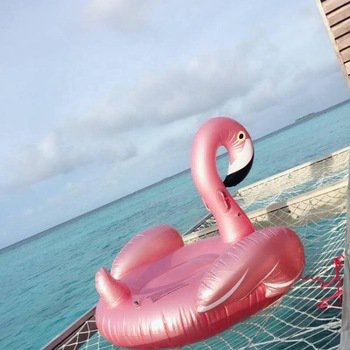Flamingo: (90, 113, 308, 348)
